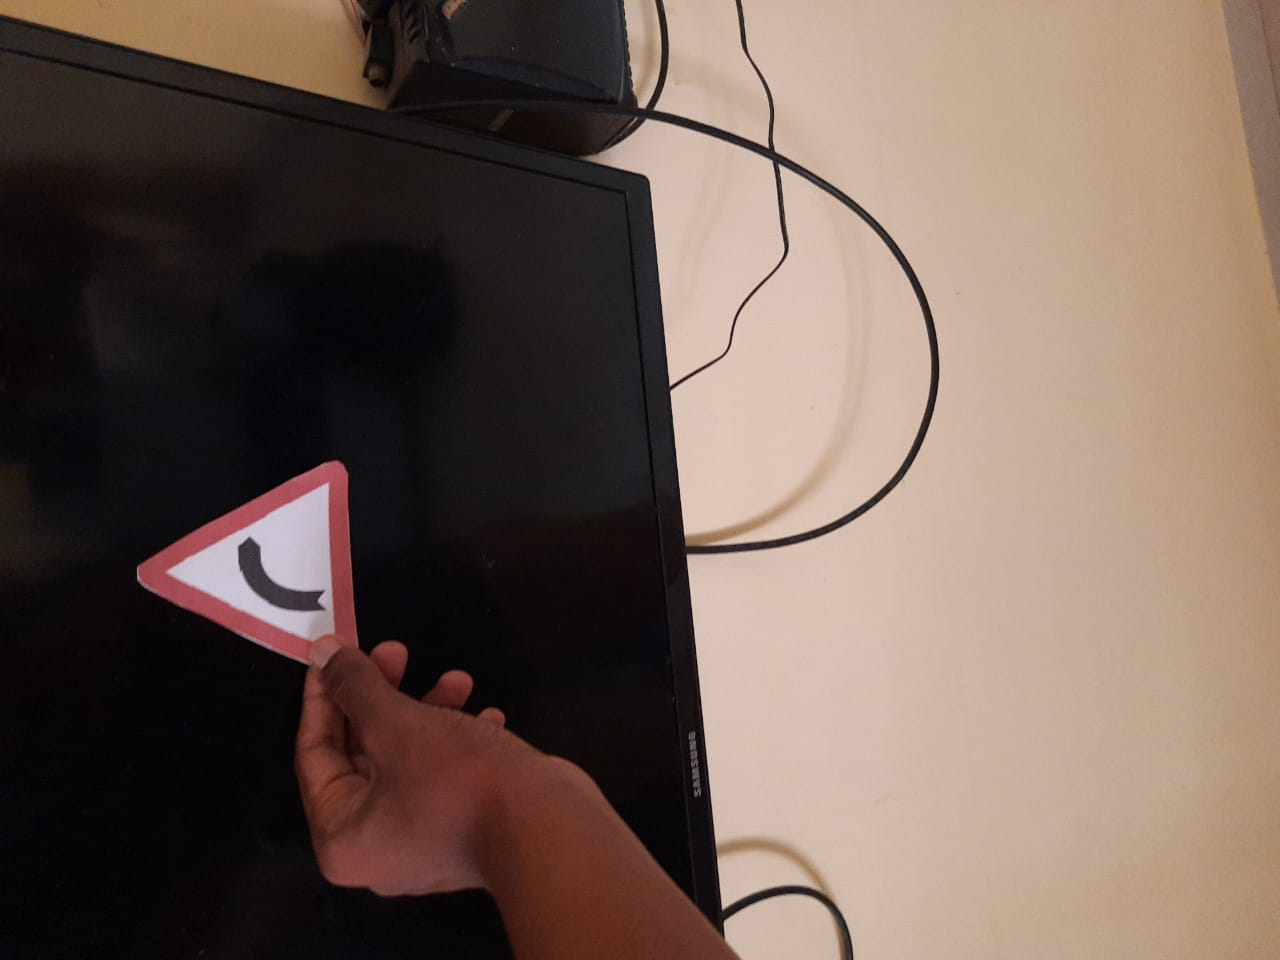RIGHT CURVE: (124, 461, 394, 684)
